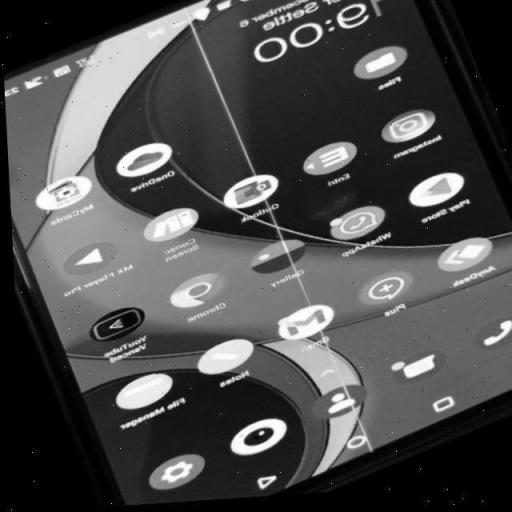phone: (7, 8, 512, 509)
